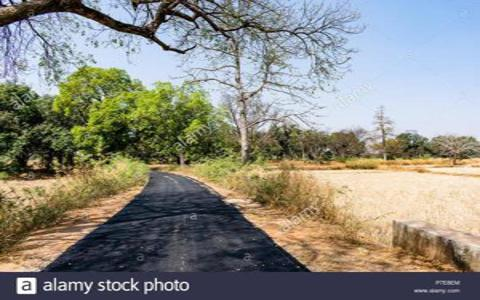Proper road: (124, 194, 239, 266)
